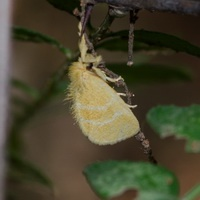insect: (68, 3, 153, 160)
